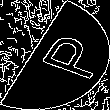P_NW: (14, 27, 96, 83)
